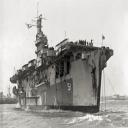Portanaves: (10, 6, 114, 115)
